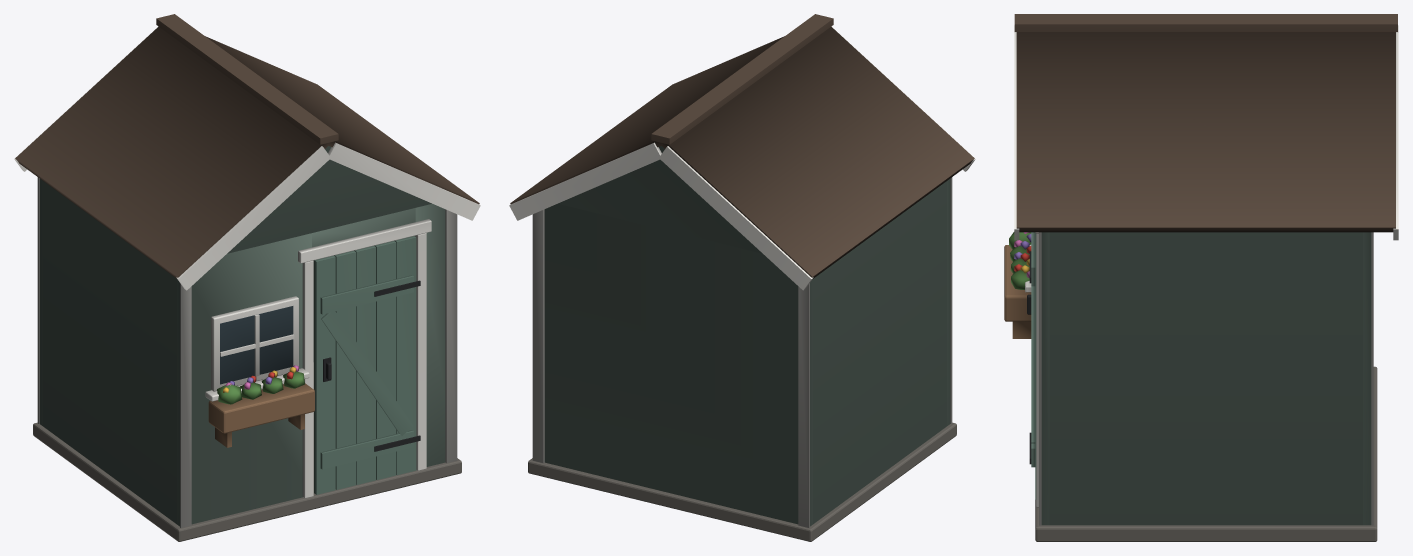
Rendered from shedSmall.far.glb.
3 views of the same model, side by side, from view 1: azimuth 30°, elevation 25°; view 2: azimuth 150°, elevation 25°; view 3: azimuth 270°, elevation 25° (orthographic). The views are drawn at different scales.
Parts seen in each view (by area): view 1: shedSmall; view 2: shedSmall; view 3: shedSmall.
Part boxes in pixels (x1=…): shedSmall: x1=14, y1=14, x2=480, y2=541; shedSmall: x1=509, y1=14, x2=975, y2=541; shedSmall: x1=1004, y1=14, x2=1398, y2=541.
Bounding box in the file's own units: 1.98 × 2.37 × 1.91.
